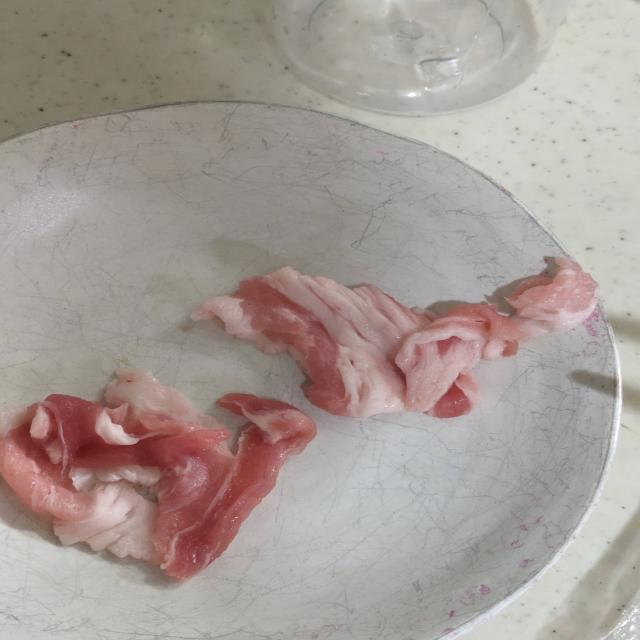NG raw pork,: (178, 246, 606, 429), (0, 360, 330, 597)
